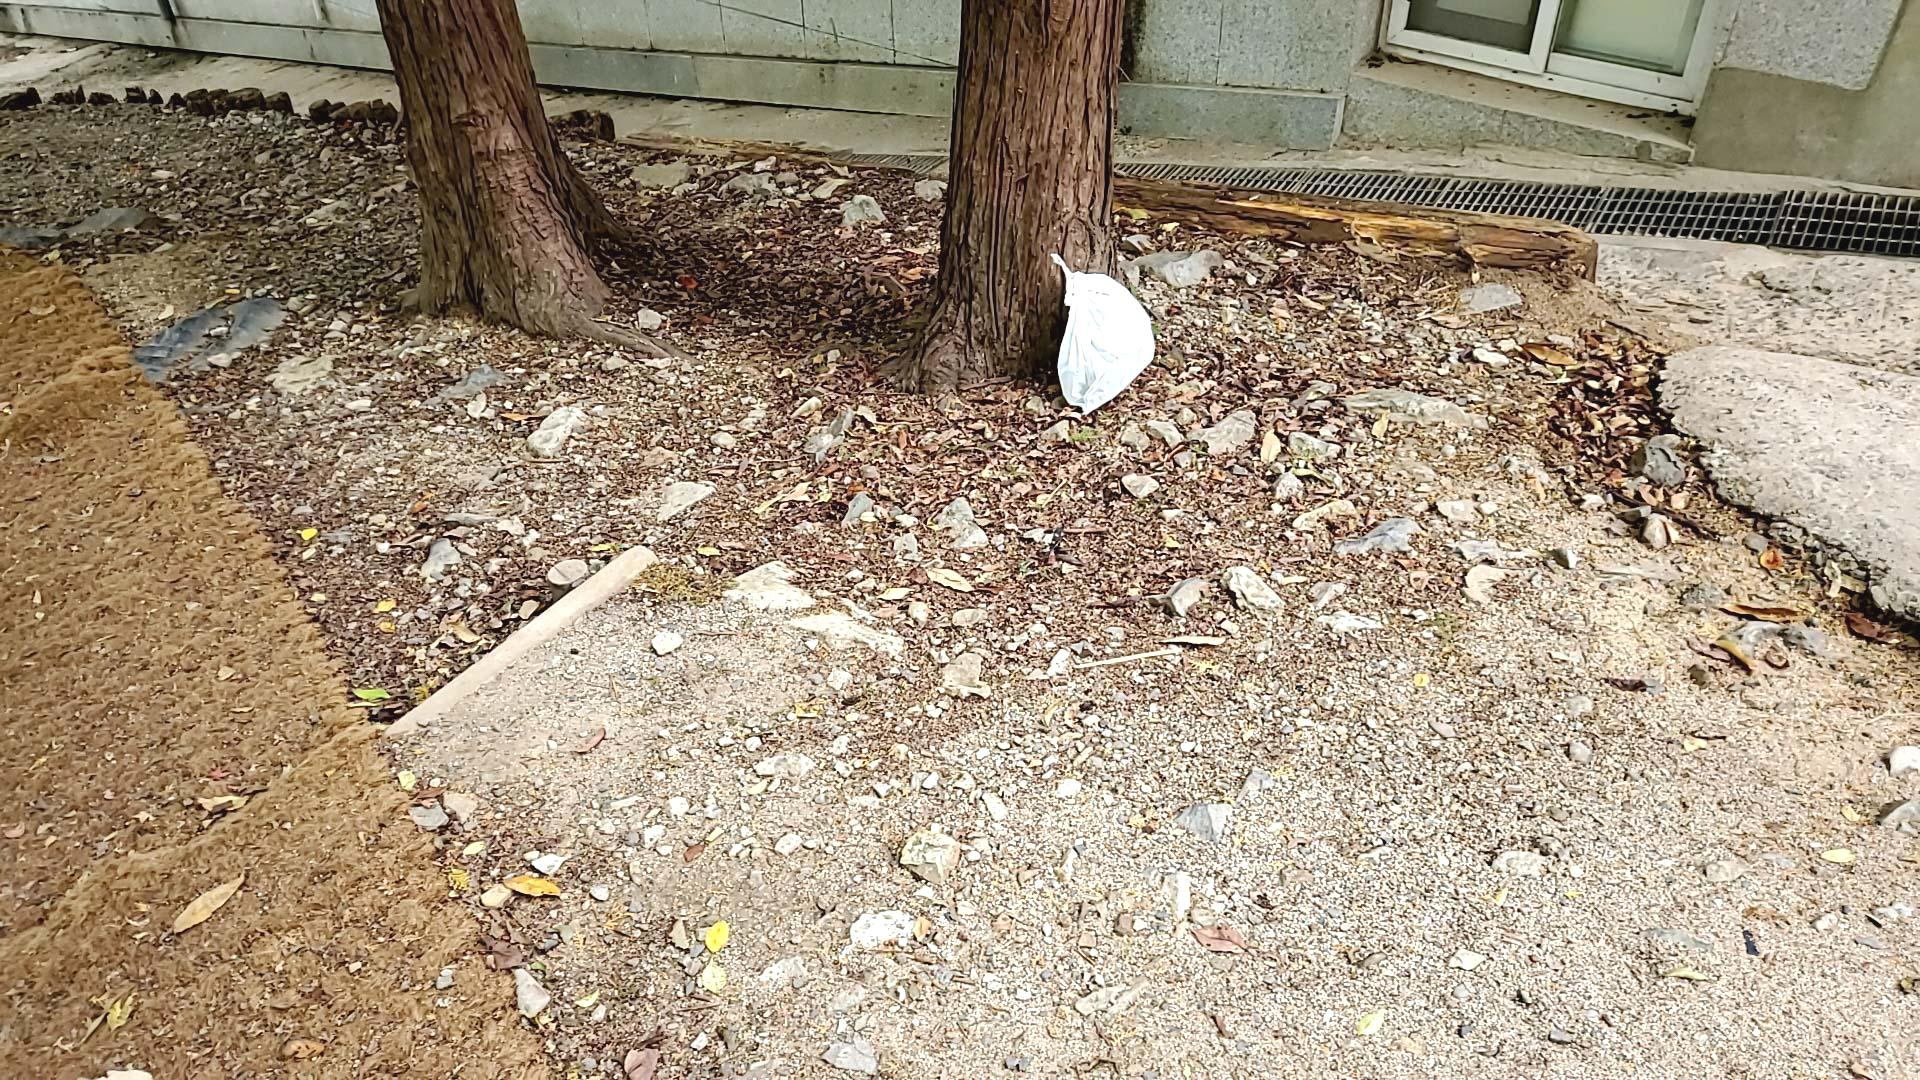white_bag: (1035, 247, 1164, 415)
